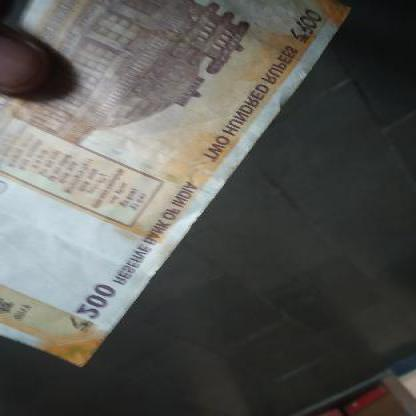New200Back: (0, 1, 371, 369)
